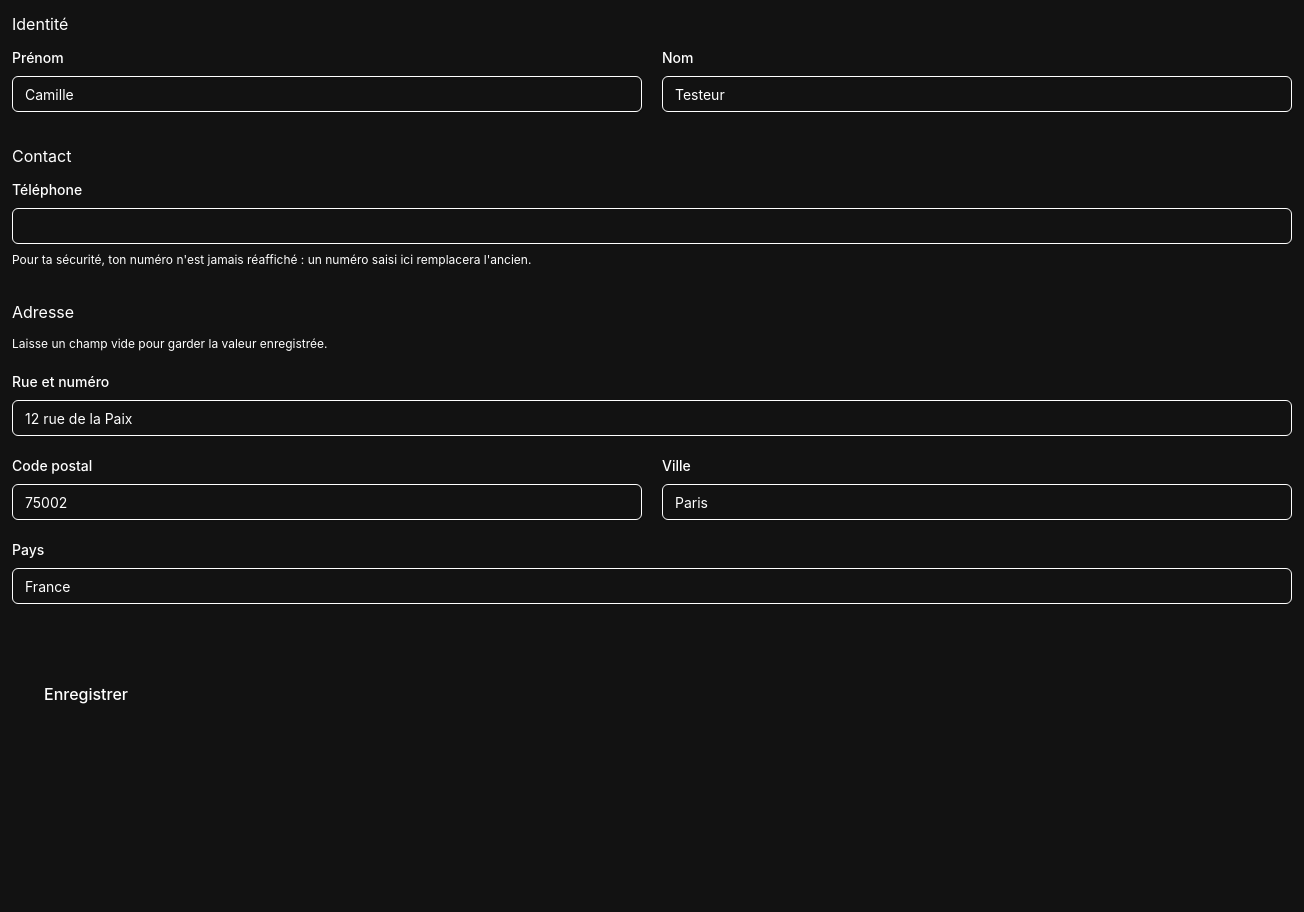
Test: ProfileForm › keeps the typed values and offers to sign in again when the session expired
This screenshot has width=1304, height=912.
Replace the text in the field labelled "Ville" with "Marseille" at [977, 502], box [662, 484, 1292, 520]
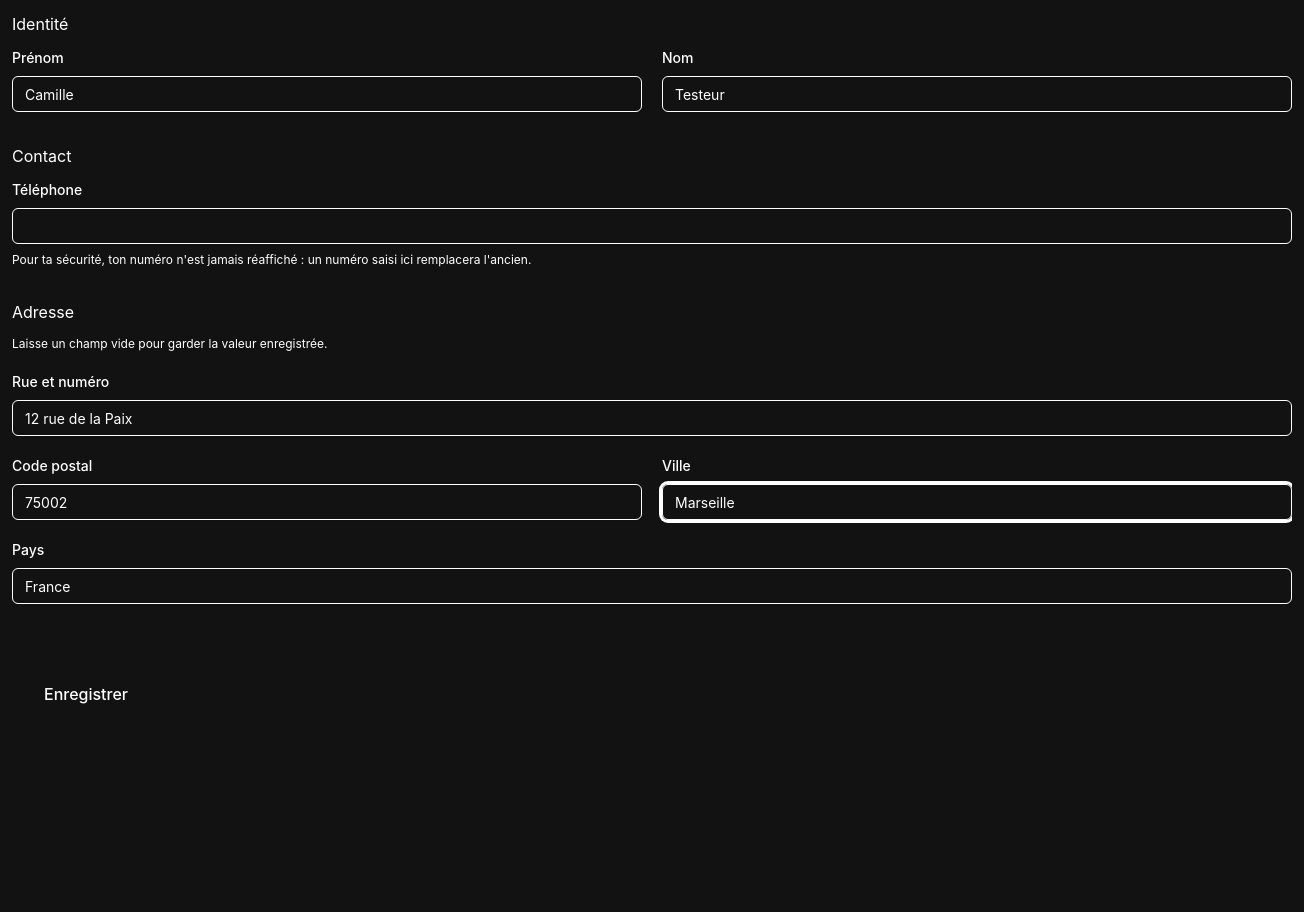
Click the button "Enregistrer".
click(86, 694)  # box [12, 672, 160, 716]
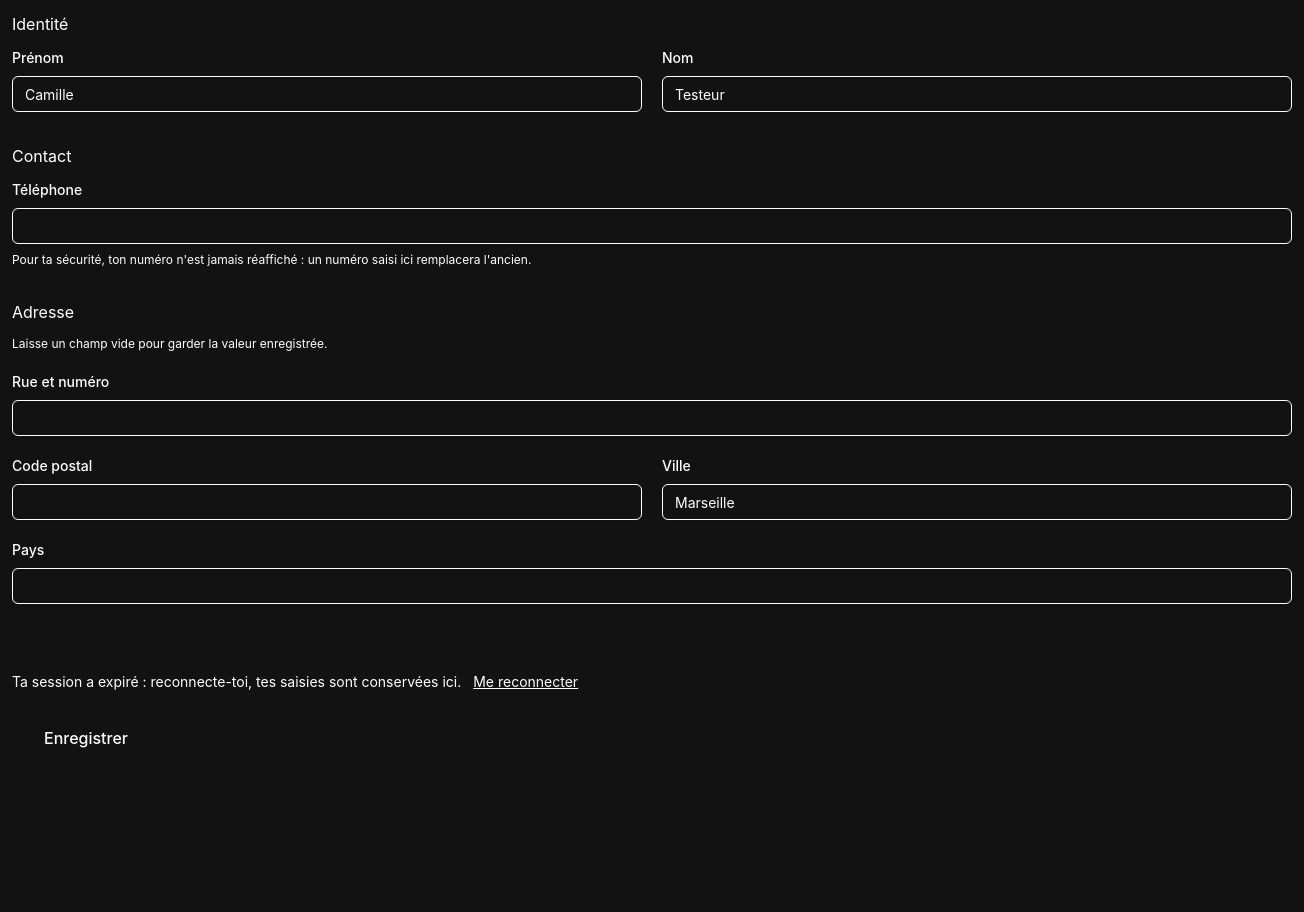
Expected: the 2nd message shows "Ta session a expiré", [12, 673, 461, 690]
